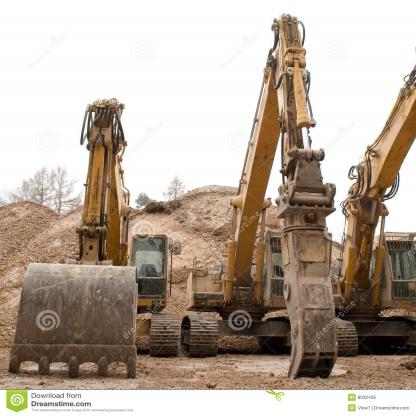excavator: (201, 11, 355, 375), (5, 81, 194, 372), (356, 44, 416, 374)
